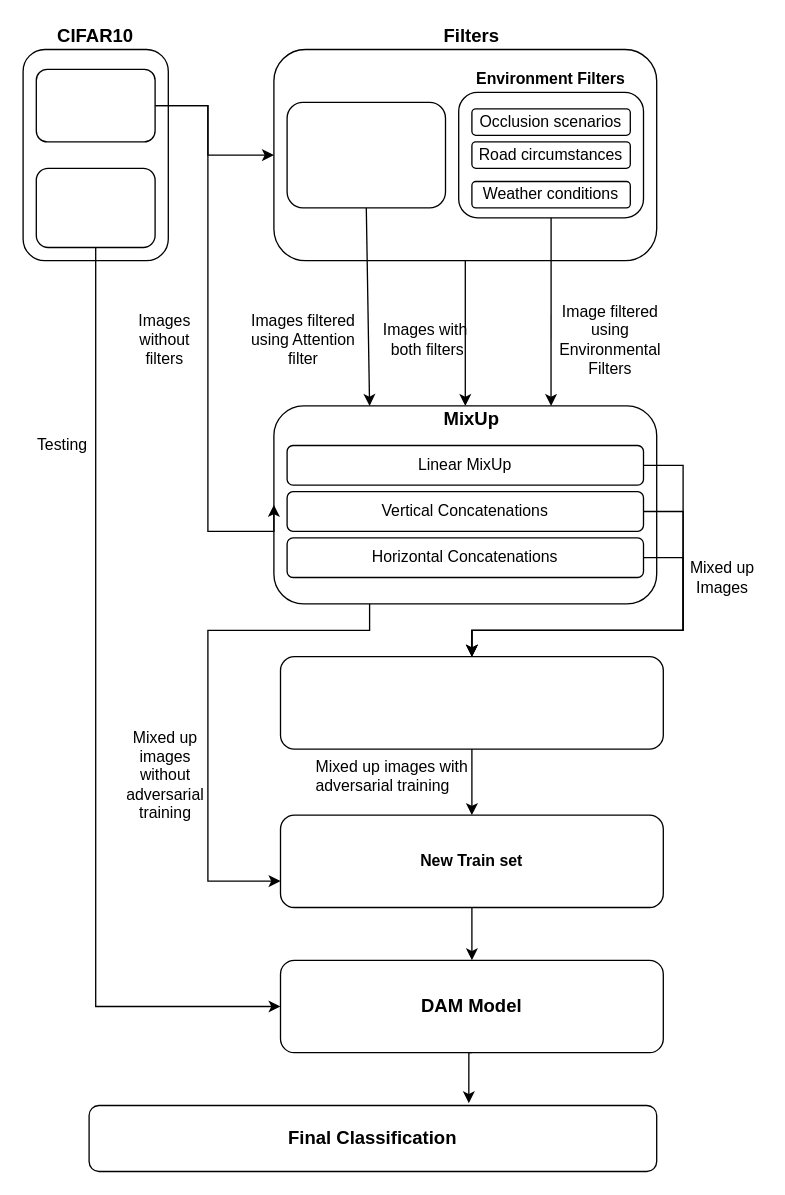
Image size: 785x1195. Some labels were removed from this diagram. Here are the shapes that lost their labels. From the top down, the centre of each, then its label:
At (95,105): "Training set".
At (366,154): "Attention Filter".
At (95,207): "Test set".
At (471,702): "Defensive Adversarial Mix-up Training".
